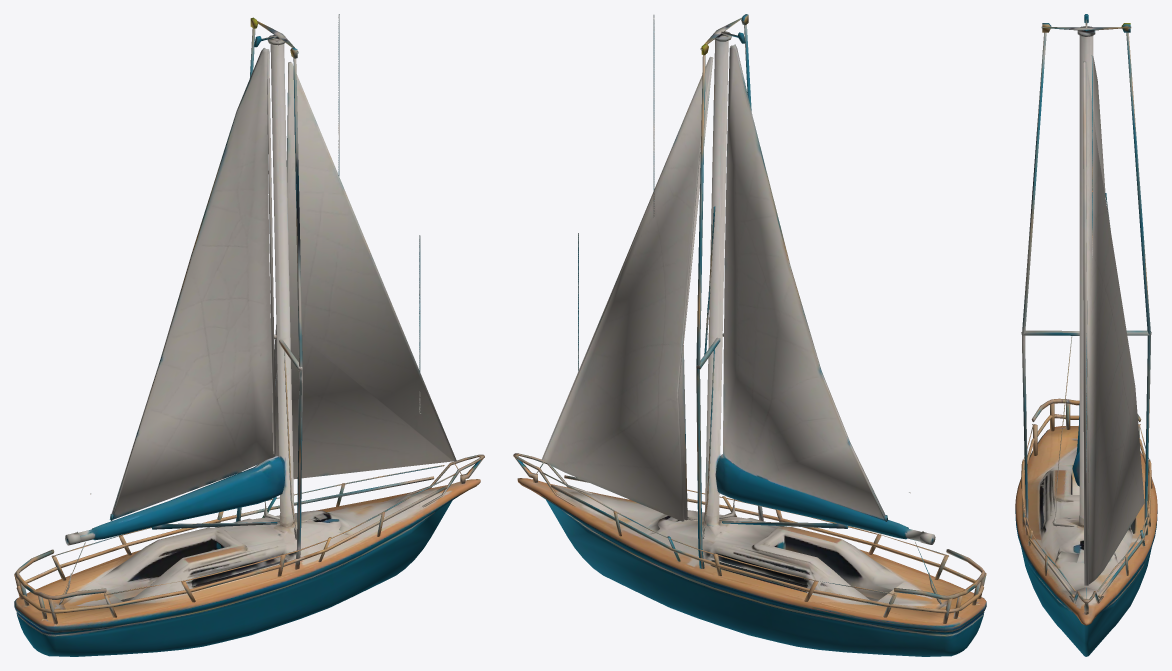
Rendered from Vehicles__a_sailboat_f6e631cb_v1.cluster.glb.
3 views of the same model, side by side, from view 1: azimuth 30°, elevation 25°; view 2: azimuth 150°, elevation 25°; view 3: azimuth 270°, elevation 25° (orthographic).
Visible parts, largest first — view 1: material; view 2: material; view 3: material.
Part boxes in pixels (box(x1,y1,x2,y2)): material: box(14, 14, 484, 656); material: box(513, 14, 986, 656); material: box(1015, 14, 1157, 656).
Size of the model in its own units: 1.58 by 1.9 by 0.4238.
Materials: 1 (1 with a texture image).
